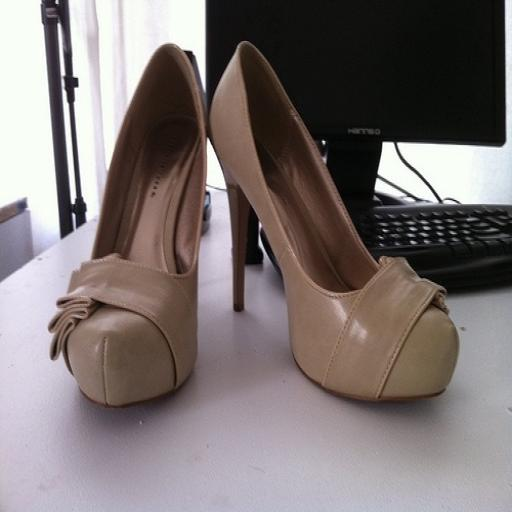heels: (209, 43, 459, 401), (49, 44, 206, 406)
